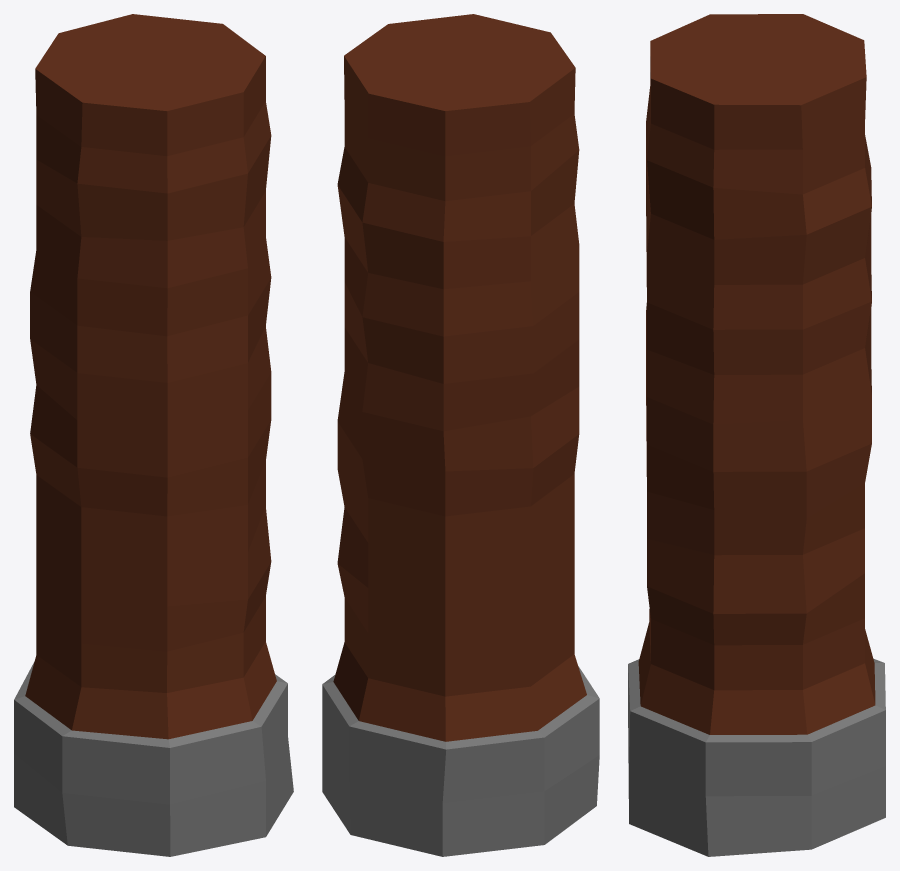
Rendered from pillar.fbx.
3 views of the same model, side by side, from view 1: azimuth 30°, elevation 25°; view 2: azimuth 150°, elevation 25°; view 3: azimuth 270°, elevation 25° (orthographic).
Parts seen in each view (by area): view 1: Cylinder.007; view 2: Cylinder.007; view 3: Cylinder.007.
Boxes of the visible parts, x1=… form: Cylinder.007: x1=14, y1=14, x2=293, y2=856; Cylinder.007: x1=322, y1=14, x2=599, y2=856; Cylinder.007: x1=628, y1=14, x2=885, y2=856.
Bounding box in the file's own units: 342 × 1038 × 328.
